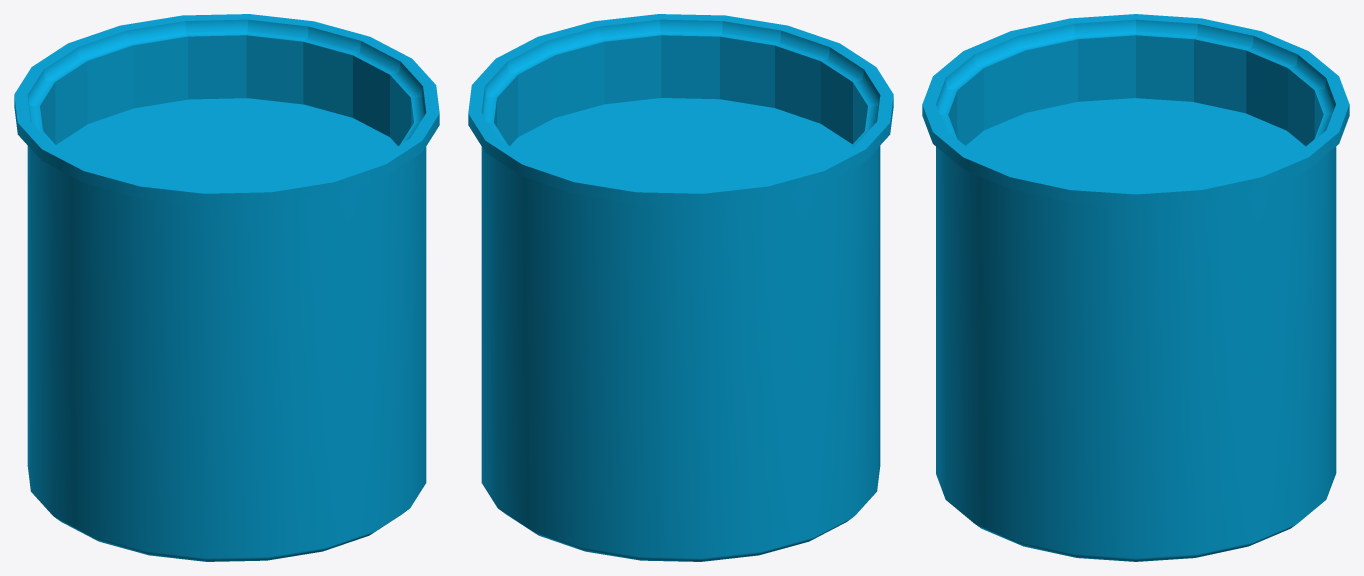
File: Paint_Bucket_02_Lod0.fbx
The picture shows the model from 3 angles, left to right: view 1: azimuth 30°, elevation 25°; view 2: azimuth 150°, elevation 25°; view 3: azimuth 270°, elevation 25°; orthographic projection.
Visible parts, largest first — view 1: Paint_Bucket_02_Lod0; view 2: Paint_Bucket_02_Lod0; view 3: Paint_Bucket_02_Lod0.
Boxes of the visible parts, <box> form: Paint_Bucket_02_Lod0: <box>14,14,439,561</box>; Paint_Bucket_02_Lod0: <box>468,14,893,561</box>; Paint_Bucket_02_Lod0: <box>922,14,1349,561</box>.
Size of the model in its own units: 25.16 by 24.5 by 25.17.
